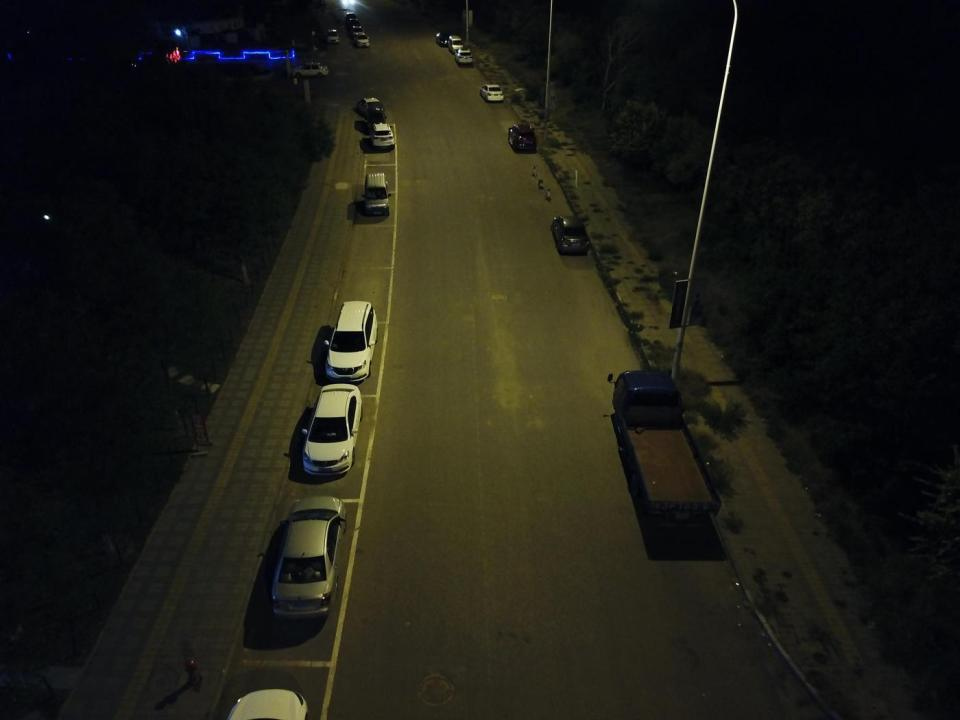car: (270, 496, 346, 624), (299, 384, 366, 474), (324, 300, 379, 384), (550, 214, 590, 256), (506, 120, 539, 155), (365, 117, 395, 149), (479, 80, 507, 105), (291, 61, 329, 78), (352, 93, 380, 113), (368, 101, 386, 126), (452, 45, 474, 65), (434, 28, 452, 47), (352, 32, 371, 48), (326, 28, 341, 46), (350, 25, 366, 35), (347, 18, 360, 30), (344, 11, 357, 23)
truck: (605, 367, 721, 521)
van: (358, 169, 393, 217), (446, 33, 464, 55)
